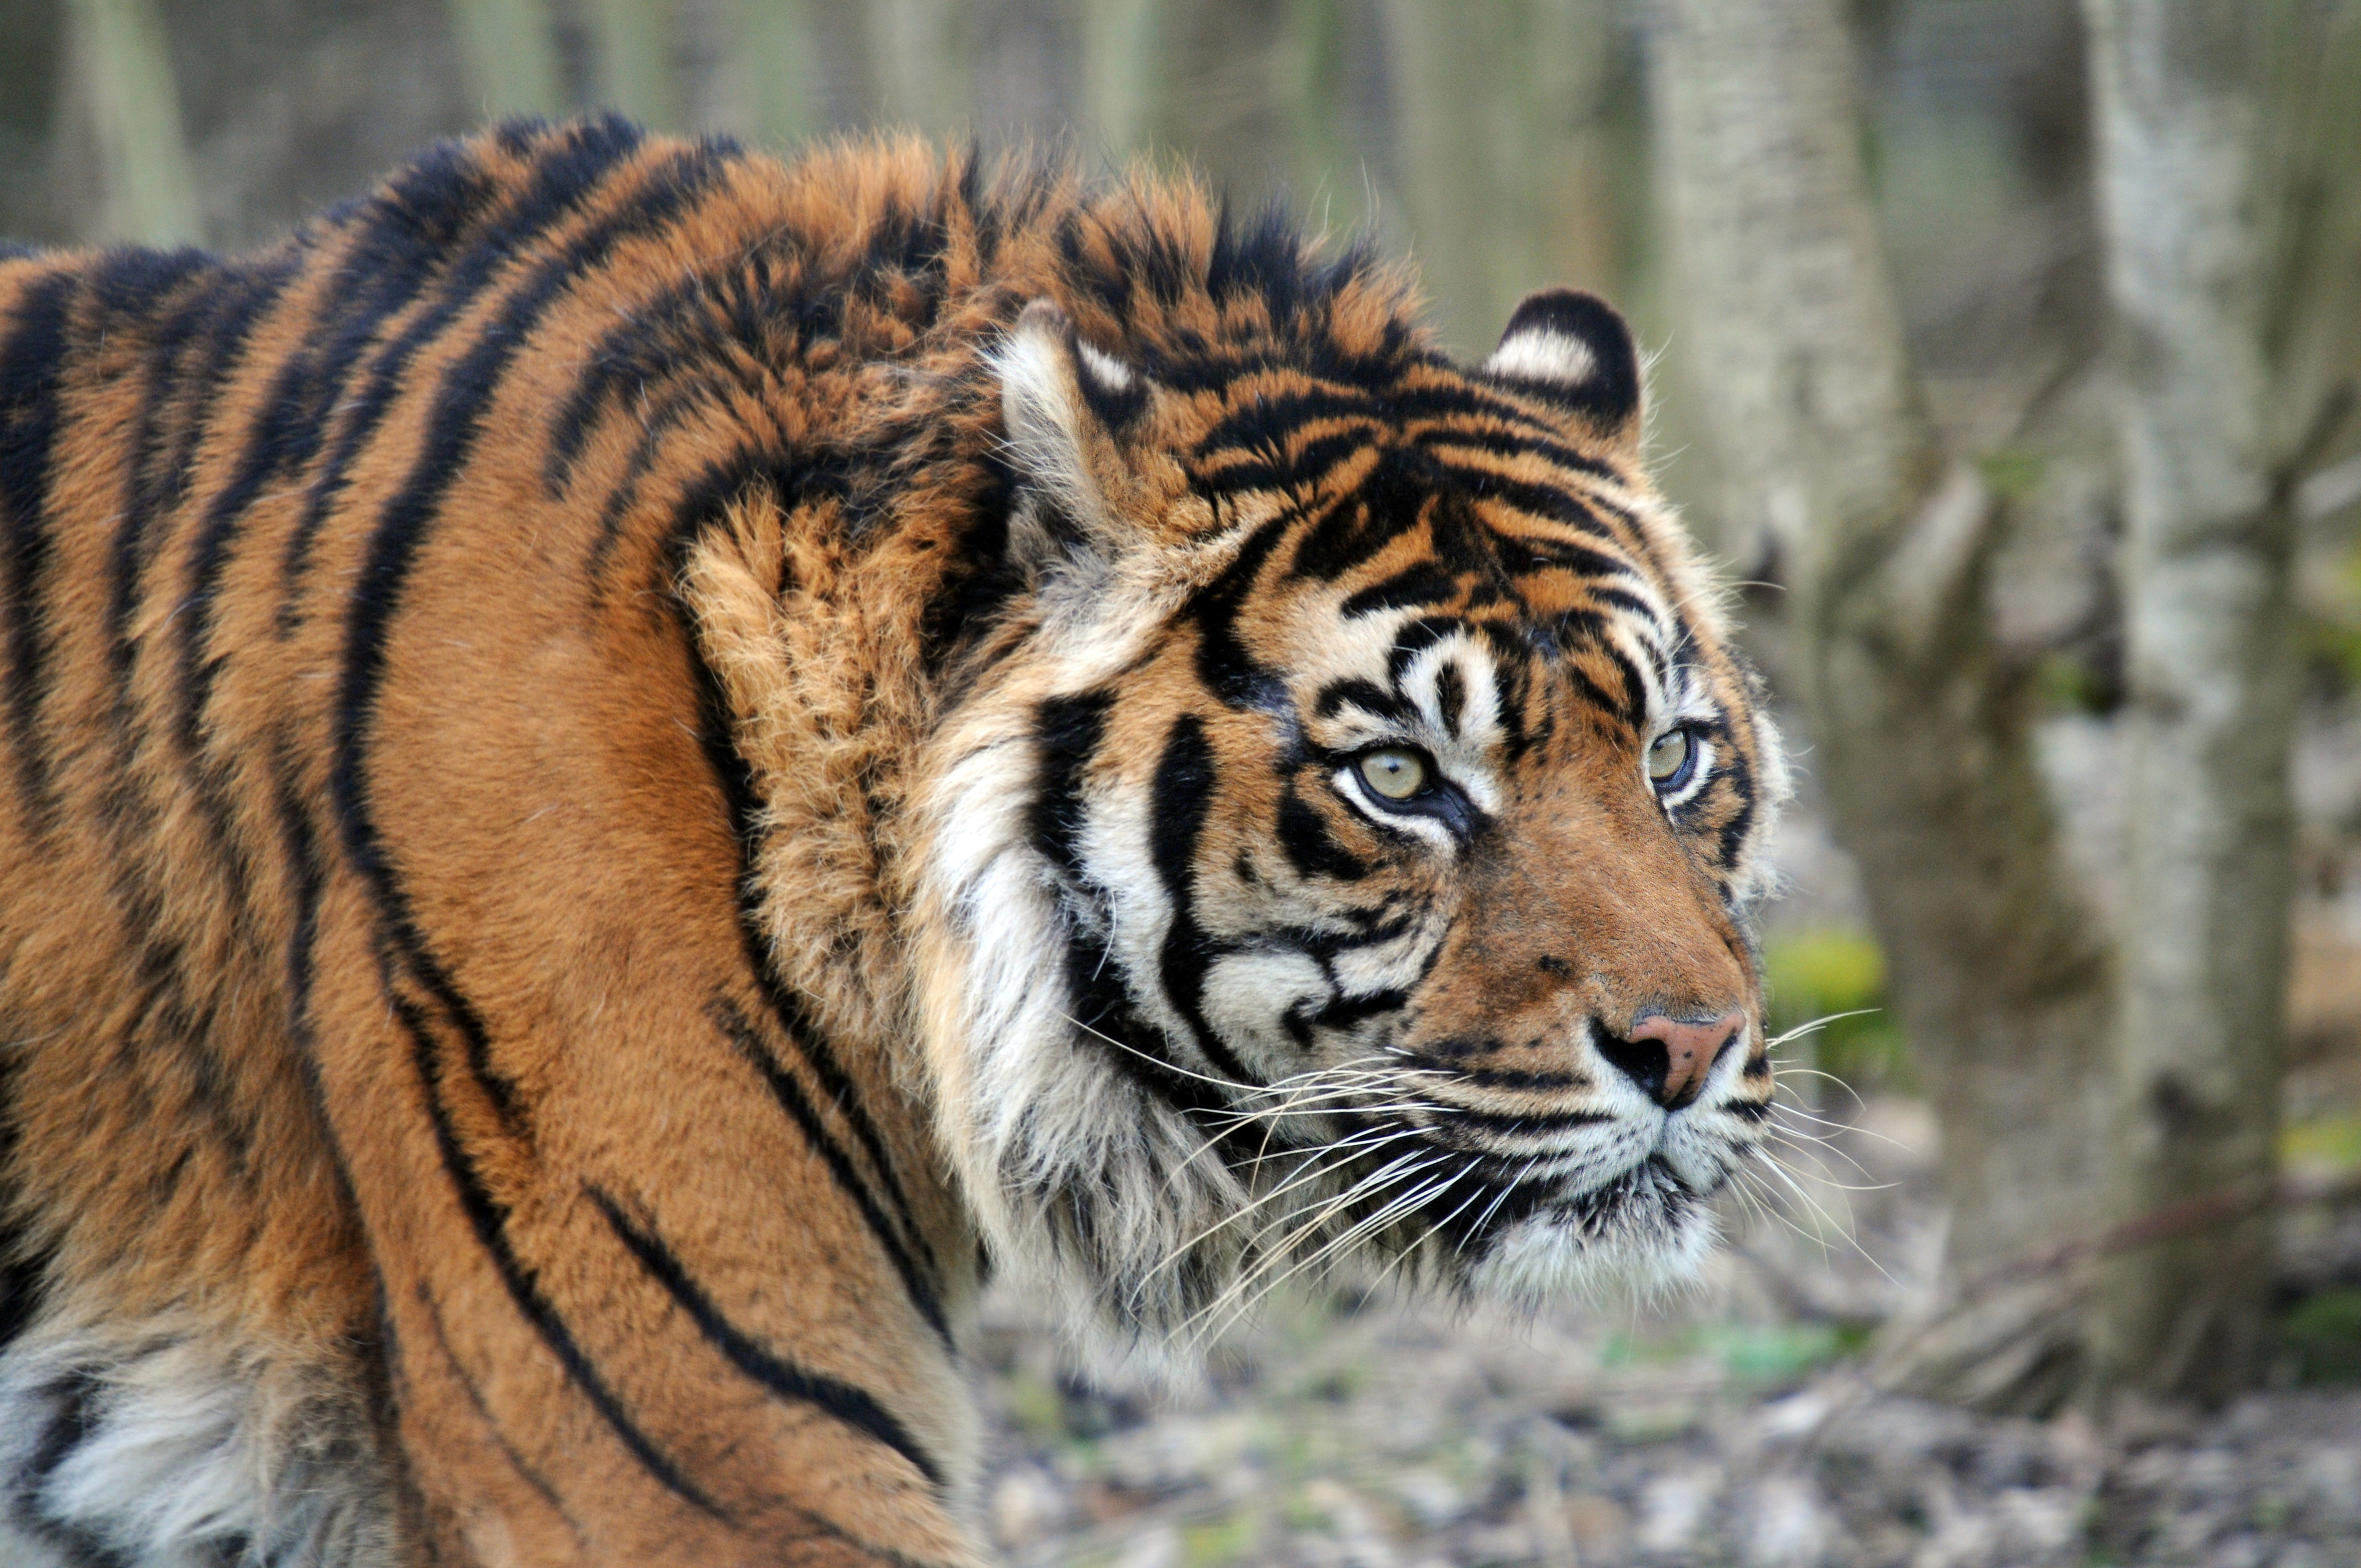tiger: (60, 103, 1813, 1545)
